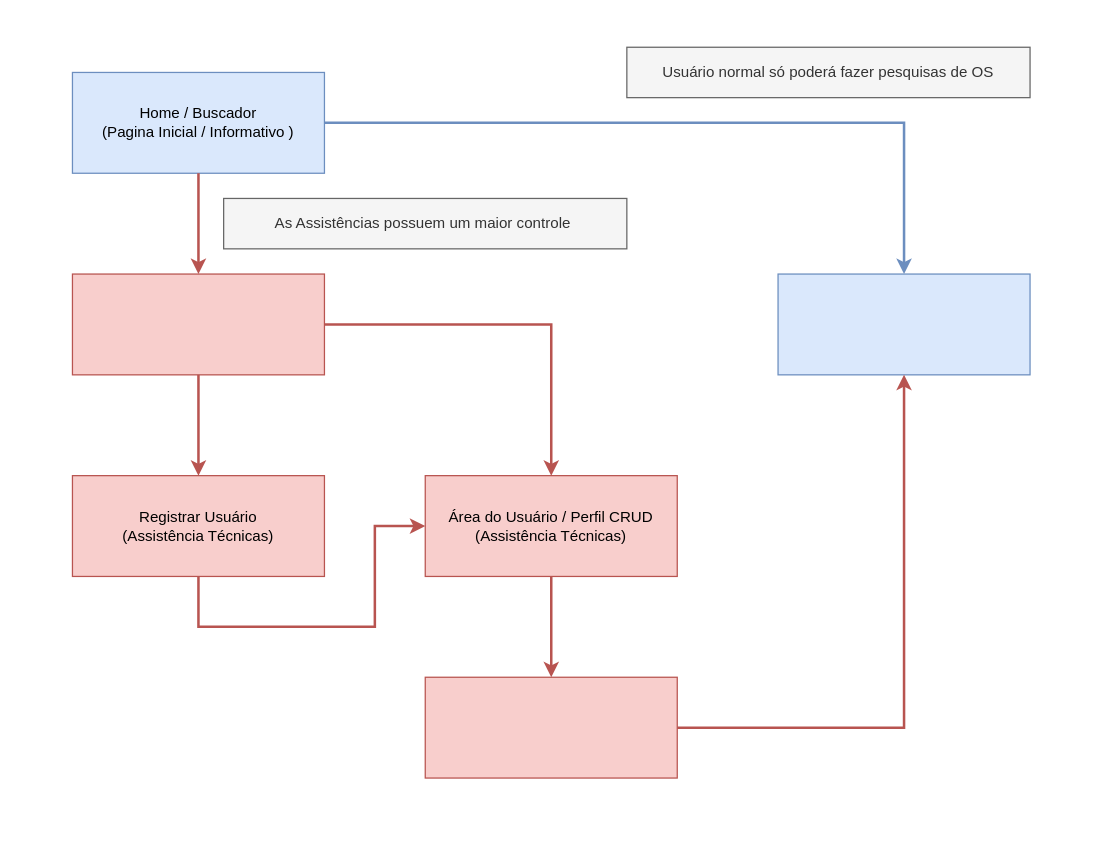
The diagram is 1101 pixels wide and 849 high, and some of its shapes have lost their labels. The box of each missing label's shape, as (x1, y1, x2, y2) in pixels:
CRUD OS (Criar / Ler / Atualizar / Apagar Ordem de Serviços): (424, 676, 677, 778)
Login (Assistências Tecnicas): (71, 273, 324, 375)
Visualizador OS (Ordem de Serviço): (777, 273, 1030, 375)
